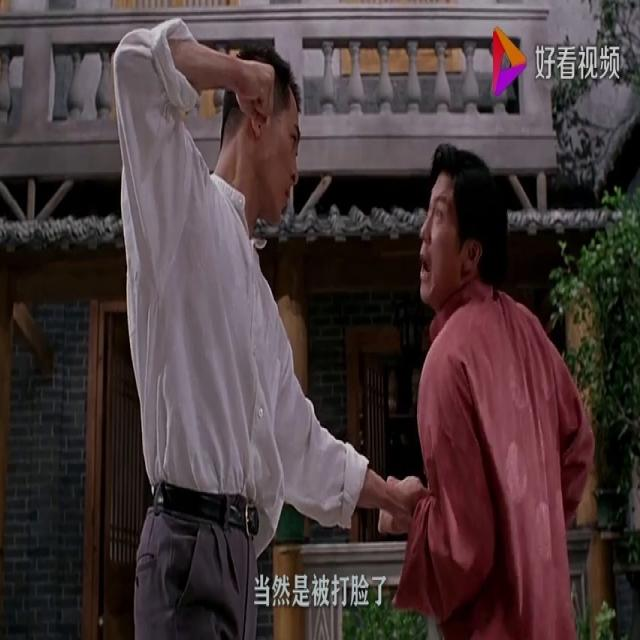fight: (99, 10, 600, 640)
